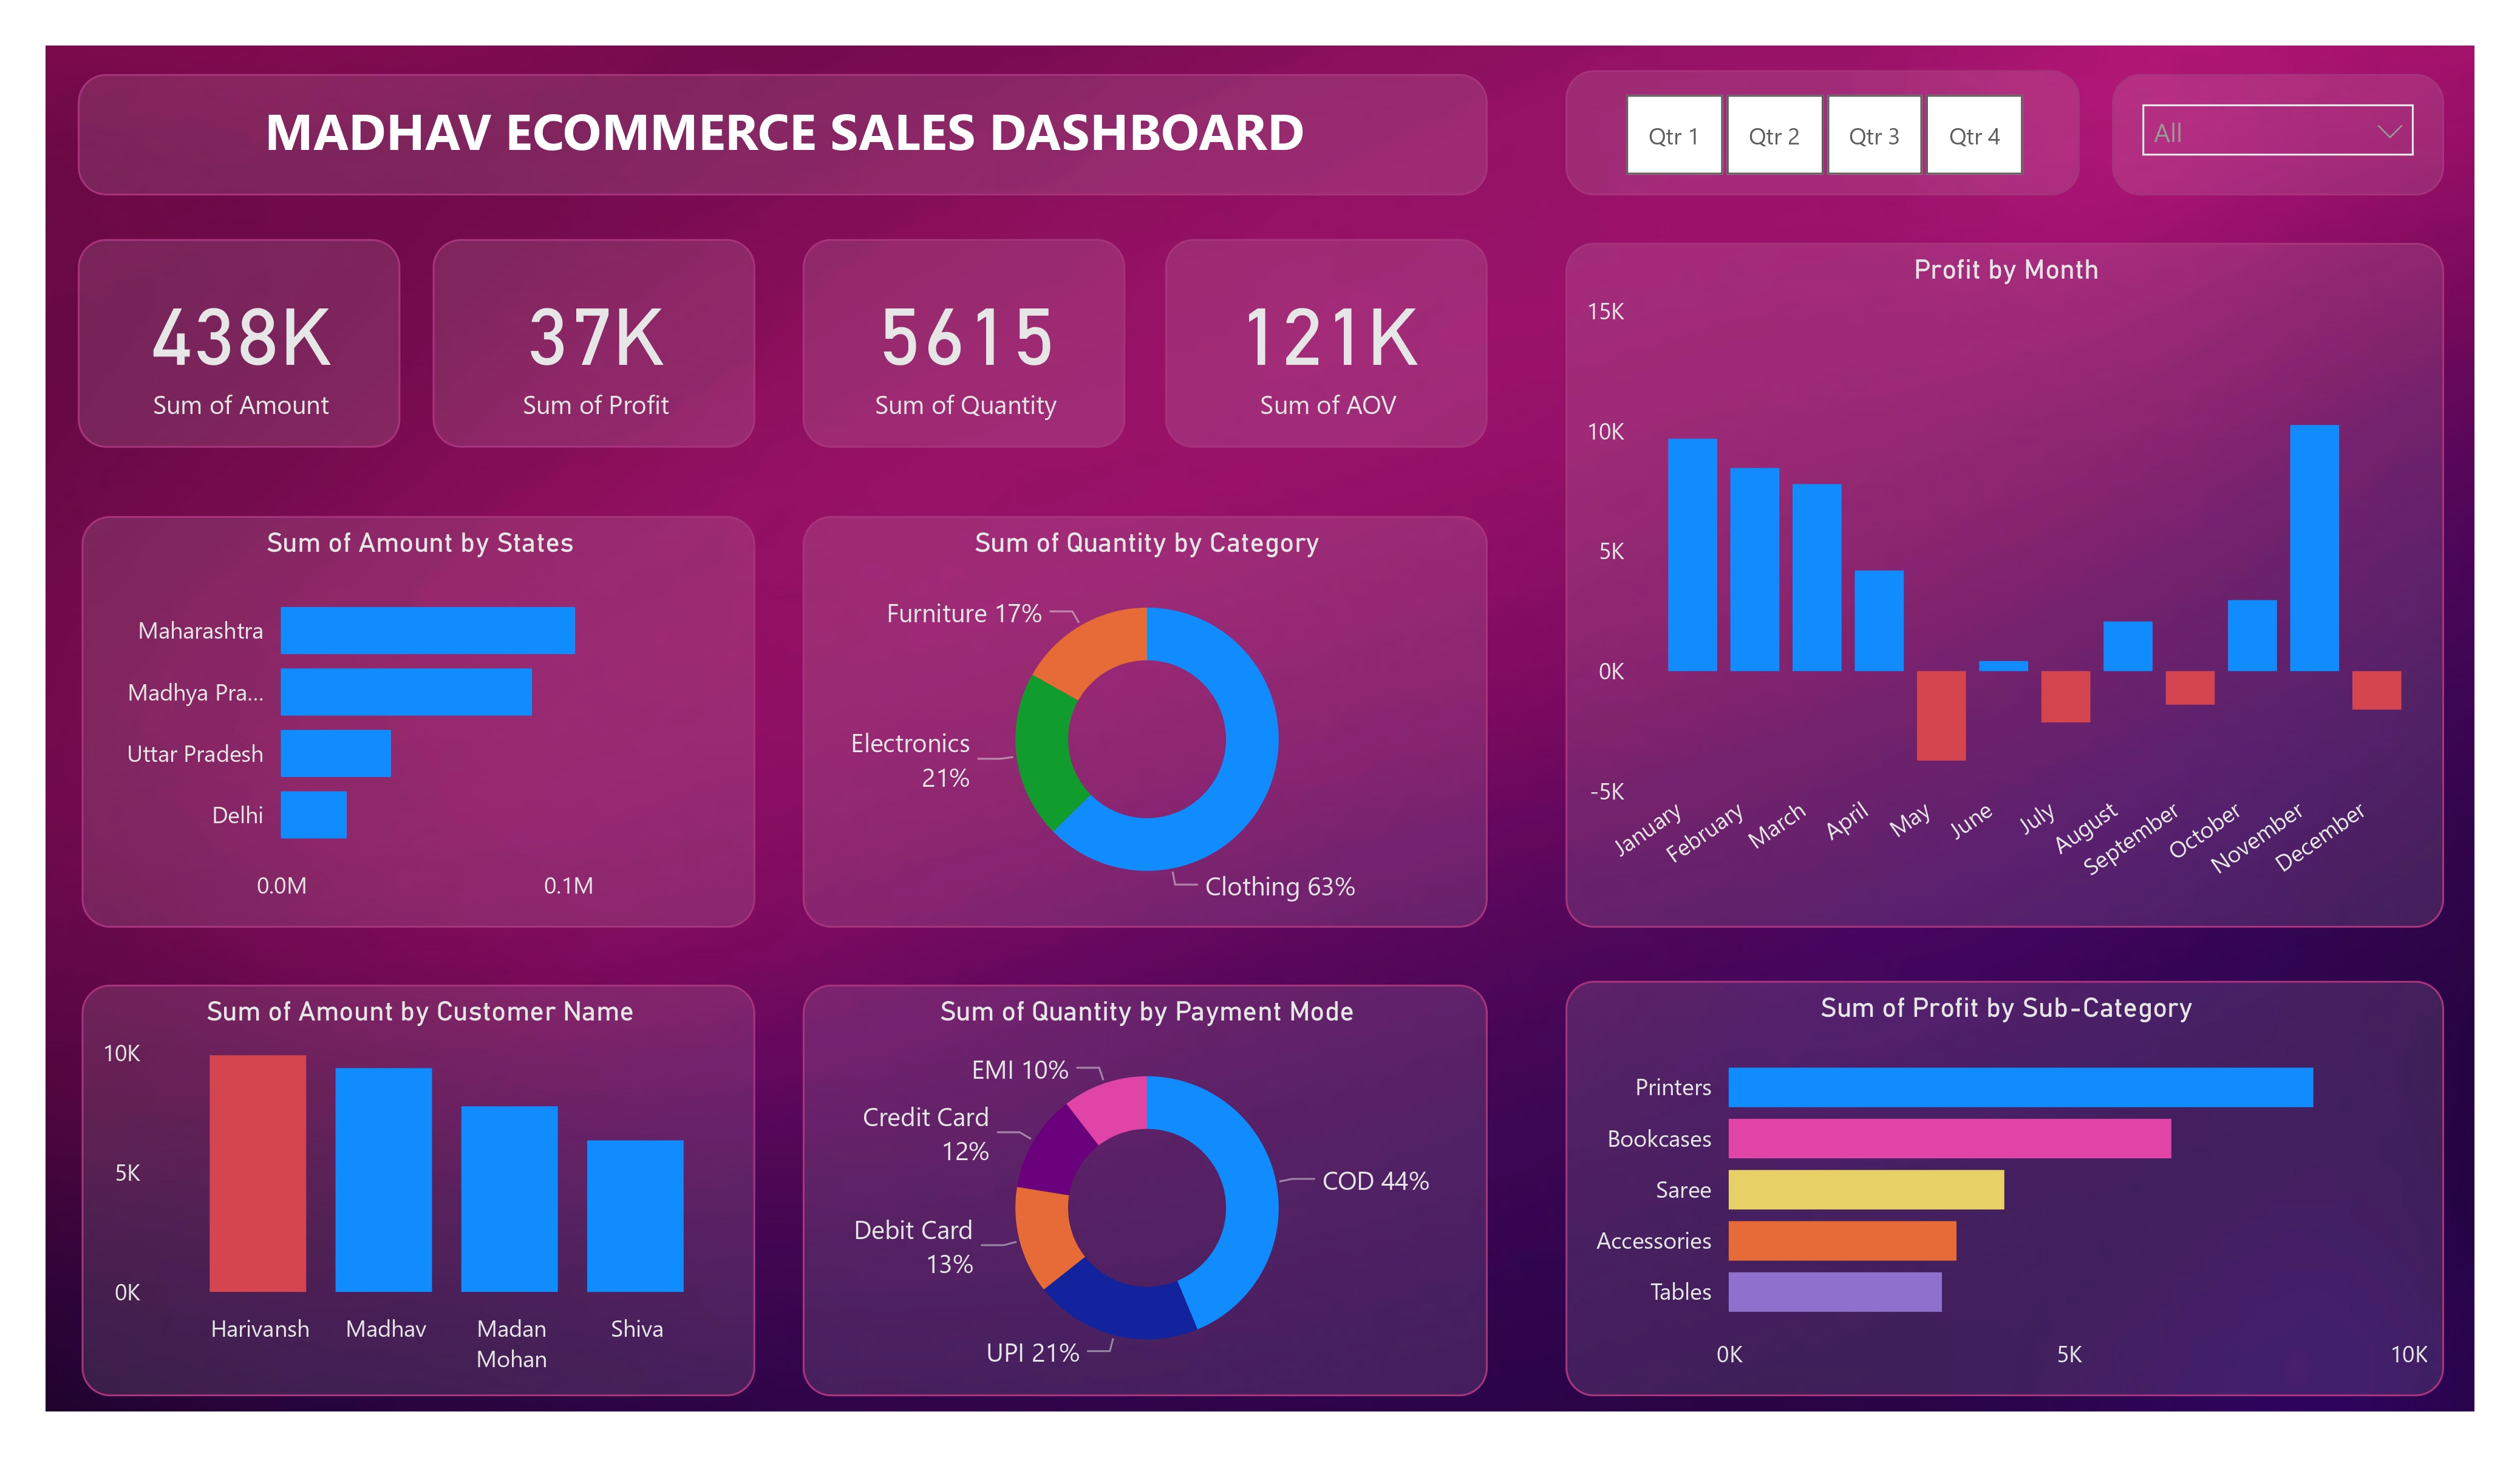

Layout of this report page (visuals, bound fields, positions):
{"tool":"powerbi","page":{"name":"Page 1","canvas":[1280,720],"ordinal":0},"visuals":[{"type":"textbox","box":[17,15.1,742.7,64.3],"z":0},{"type":"columnChart","title":"Profit by Month","fields":{"Y":["Details.Profit"],"Category":["Orders.Order Date.Variation.Date Hierarchy.Month"]},"box":[801.3,103.9,463,360.9],"z":1000},{"type":"barChart","title":"Sum of Profit by Sub-Category","fields":{"Category":["Details.Sub-Category"],"Y":["Details.Profit"]},"box":[801.3,493.2,463,219.2],"z":2000},{"type":"donutChart","fields":{"Category":["Details.Category"],"Y":["Details.Quantity"]},"box":[398.7,247.6,360.9,217.3],"z":3000},{"type":"donutChart","title":"Sum of Quantity by Payment Mode","fields":{"Y":["Details.Quantity"],"Category":["Details.PaymentMode"]},"box":[398.7,495.1,360.9,217.3],"z":4000},{"type":"card","fields":{"Values":["Details.Amount"]},"box":[17,102,170,110],"z":5000},{"type":"card","fields":{"Values":["Details.Quantity"]},"box":[398.7,102,170.1,109.6],"z":6000},{"type":"card","fields":{"Values":["Details.Profit"]},"box":[204.1,102,170.1,109.6],"z":7000},{"type":"card","fields":{"Values":["Details.AOV"]},"box":[589.6,102,170.1,109.6],"z":8000},{"type":"clusteredBarChart","title":"Sum of Amount by States","fields":{"Category":["Orders.State"],"Y":["Details.Amount"]},"box":[18.9,247.6,355.3,217.3],"z":9000},{"type":"columnChart","title":"Sum of Amount by Customer Name","fields":{"Category":["Orders.CustomerName"],"Y":["Details.Amount"]},"box":[18.9,495.1,355.3,217.3],"z":10000},{"type":"slicer","fields":{"Values":["Orders.Order Date.Variation.Date Hierarchy.Quarter"]},"box":[801.3,13.2,270.2,66.1],"z":11000},{"type":"slicer","fields":{"Values":["Orders.State"]},"box":[1088.5,15.1,175.7,64.3],"z":12000}]}

Visuals, with their boxes on the page's 1280x720 design canvas (x1, y1, x2, y2). These are canvas units, not pixel positions in the 2520x1457 screenshot, which may show the page scaled, cropped or inside an application window:
textbox: x1=17 y1=15 x2=760 y2=79
"Profit by Month" columnChart: x1=801 y1=104 x2=1264 y2=465
"Sum of Profit by Sub-Category" barChart: x1=801 y1=493 x2=1264 y2=712
donutChart - Details.Category x Details.Quantity: x1=399 y1=248 x2=760 y2=465
"Sum of Quantity by Payment Mode" donutChart: x1=399 y1=495 x2=760 y2=712
card - Details.Amount: x1=17 y1=102 x2=187 y2=212
card - Details.Quantity: x1=399 y1=102 x2=569 y2=212
card - Details.Profit: x1=204 y1=102 x2=374 y2=212
card - Details.AOV: x1=590 y1=102 x2=760 y2=212
"Sum of Amount by States" clusteredBarChart: x1=19 y1=248 x2=374 y2=465
"Sum of Amount by Customer Name" columnChart: x1=19 y1=495 x2=374 y2=712
slicer - Orders.Order Date.Variation.Date Hierarchy.Quarter: x1=801 y1=13 x2=1072 y2=79
slicer - Orders.State: x1=1088 y1=15 x2=1264 y2=79
